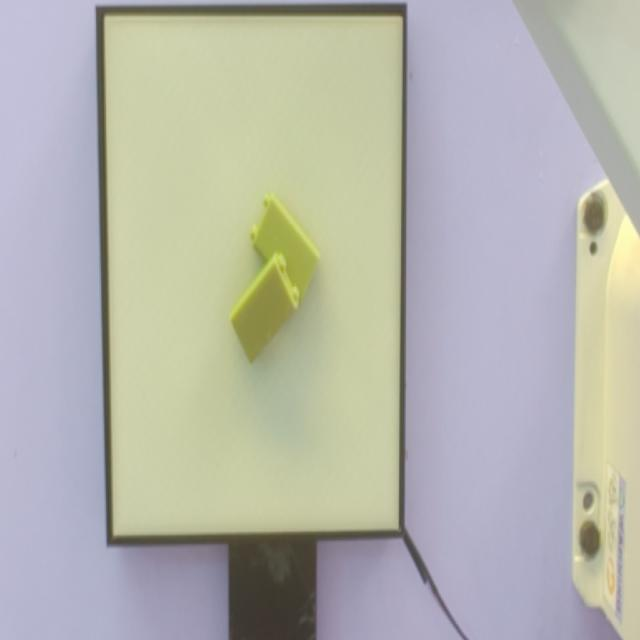bateria: (228, 251, 300, 366)
mesa: (96, 2, 407, 545)
